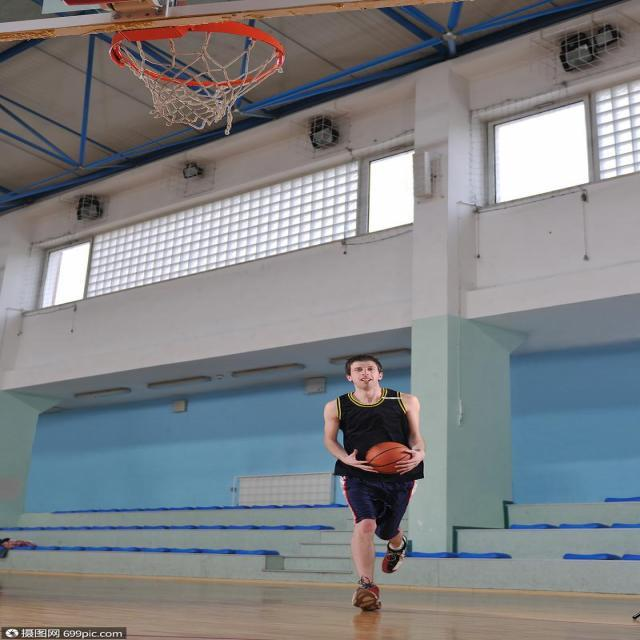rim: (362, 441, 412, 476)
